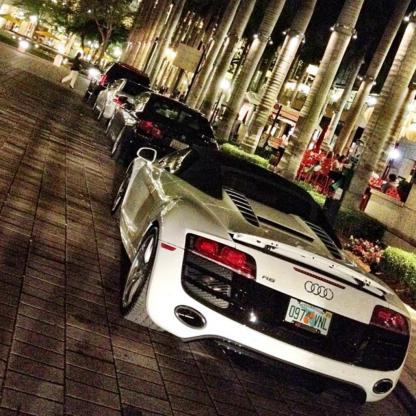Car: (110, 142, 412, 402), (104, 90, 221, 160), (92, 77, 157, 121), (91, 61, 152, 89)
